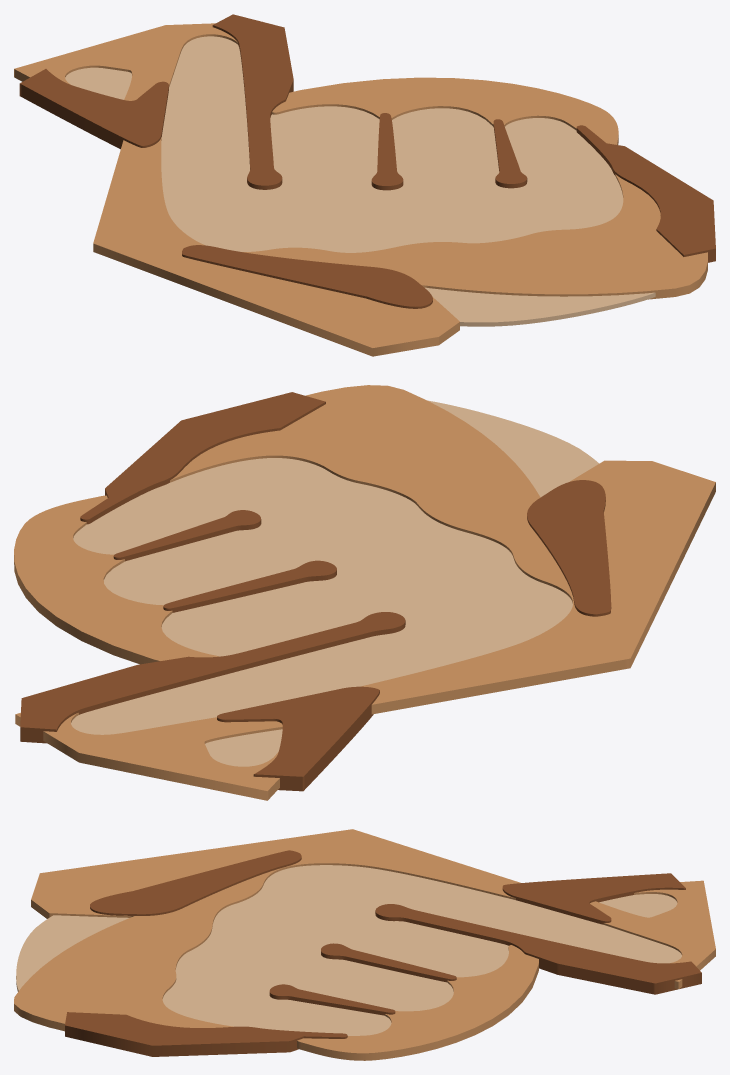
File: emoji_u1faf0_1f3fc.glb
3 renders of one model, top to bottom at view 1: azimuth 30°, elevation 25°; view 2: azimuth 150°, elevation 25°; view 3: azimuth 270°, elevation 25°, orthographic. The views are drawn at different scales.
Visible parts, largest first — view 1: emoji_u1faf0_1f3fc; view 2: emoji_u1faf0_1f3fc; view 3: emoji_u1faf0_1f3fc.
Part boxes in pixels (left/top/right/bottom): emoji_u1faf0_1f3fc: left=14, top=14, right=715, bottom=356; emoji_u1faf0_1f3fc: left=14, top=385, right=715, bottom=800; emoji_u1faf0_1f3fc: left=14, top=829, right=715, bottom=1060.
Size of the model in its own units: 0.0257 by 0.0006 by 0.0339.
